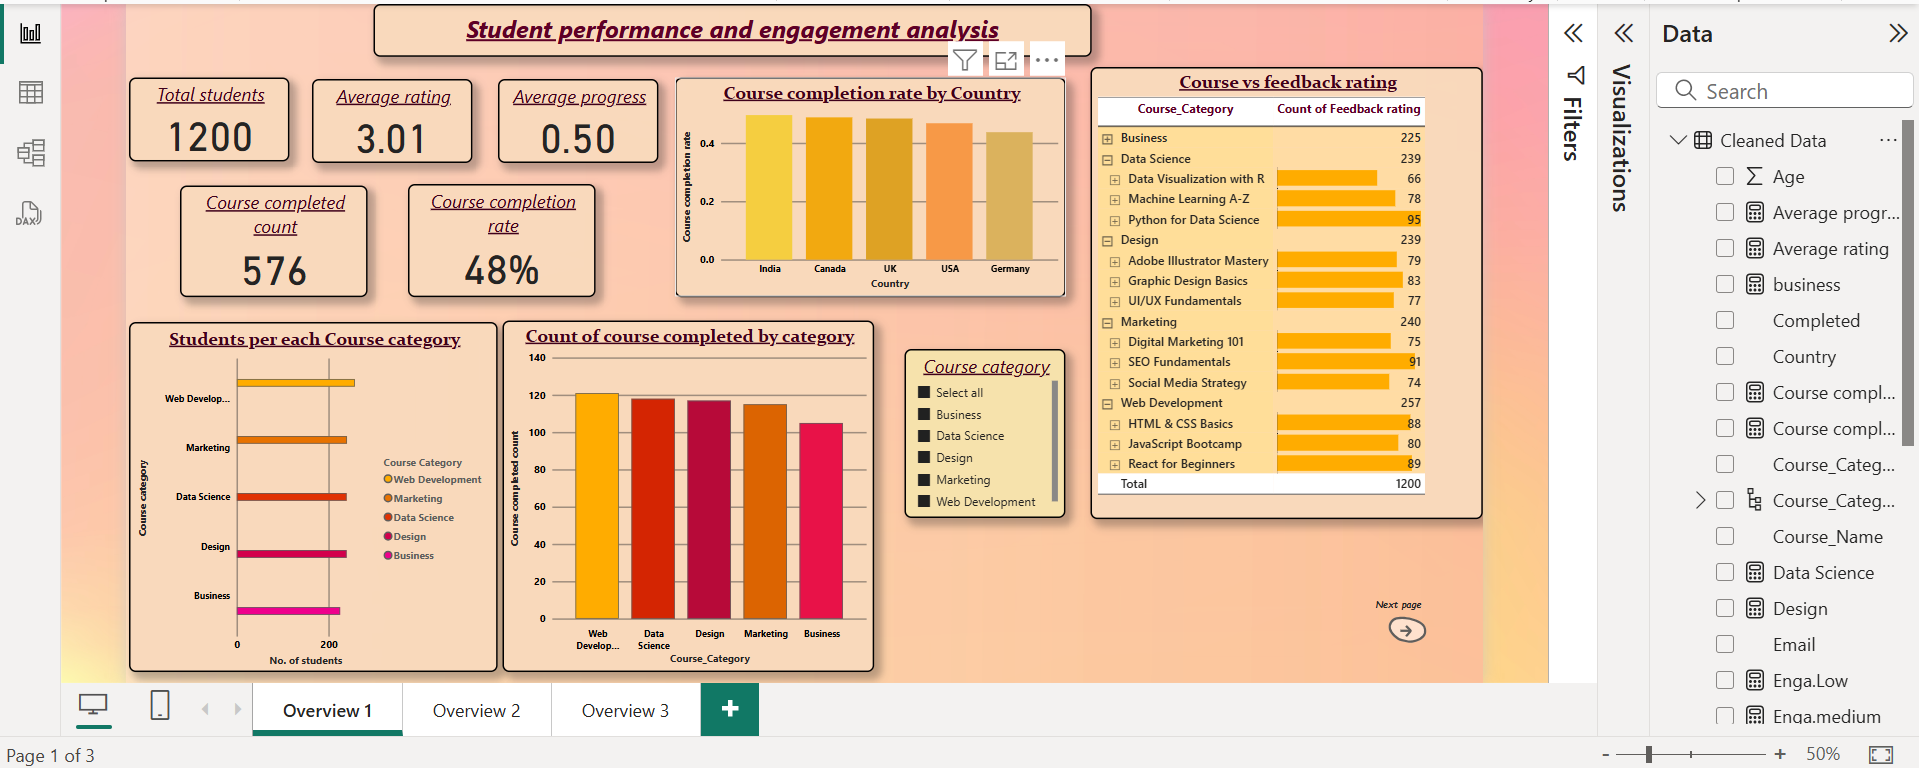

Layout of this report page (visuals, bound fields, positions):
{"tool":"powerbi","page":{"name":"Overview 1","canvas":[1800,900],"ordinal":0},"visuals":[{"type":"card","title":"Total students","fields":{"Values":["Cleaned Data.Total students"]},"box":[4,97.2,212.5,111.3],"z":0},{"type":"card","title":"Average progress","fields":{"Values":["Cleaned Data.Average progress"]},"box":[493.9,99.2,212.5,111.3],"z":1000},{"type":"card","title":"Average rating","fields":{"Values":["Cleaned Data.Average rating"]},"box":[246.9,99.2,212.5,111.3],"z":2000},{"type":"card","title":"Course completed count","fields":{"Values":["Cleaned Data.Course ompletion rate"]},"box":[70.8,240.9,249,147.8],"z":3000},{"type":"card","title":"Course completion rate","fields":{"Values":["Cleaned Data.Course completion rate"]},"box":[374.4,238.8,249,149.8],"z":4000},{"type":"clusteredBarChart","title":"Students per each Course category ","fields":{"Category":["Cleaned Data.Course_Category"],"Y":["CountNonNull(Cleaned Data.Student_ID)"],"Series":["Cleaned Data.Course_Category"]},"box":[4.4,421.9,488.5,464.1],"z":5000},{"type":"slicer","title":"Course category","fields":{"Values":["Cleaned Data.Course_Category"]},"box":[1032.5,457.4,213.2,224.3],"z":6000},{"type":"actionButton","title":"Next page","box":[1656.2,787.4,87.5,61.6],"z":7000},{"type":"textbox","box":[327.9,0,951.8,70.3],"z":8000},{"type":"clusteredColumnChart","title":"Count of course completed by category","fields":{"Category":["Cleaned Data.Course_Category"],"Y":["Cleaned Data.Course completed count"]},"box":[499.6,419.7,492.9,466.3],"z":9000},{"type":"clusteredColumnChart","fields":{"Category":["Cleaned Data.Country"],"Y":["Cleaned Data.Course completion rate"]},"box":[728.7,97.2,518.2,291.5],"z":11000},{"type":"pivotTable","title":"Course vs feedback rating","fields":{"Values":["CountNonNull(Cleaned Data.Feedback rating)"],"Rows":["Cleaned Data.Course_Category Hierarchy.Course_Category","Cleaned Data.Course_Category Hierarchy.Course_Name","Cleaned Data.Course_Category Hierarchy.Country","Cleaned Data.Course_Category Hierarchy.Gender"]},"box":[1279.2,83,520.2,599.1],"z":11001}]}

Visuals, with their boxes on the page's 1800x900 design canvas (x1, y1, x2, y2). These are canvas units, not pixel positions in the 1919x768 screenshot, which may show the page scaled, cropped or inside an application window:
"Total students" card: select_region(4, 97, 216, 208)
"Average progress" card: select_region(494, 99, 706, 210)
"Average rating" card: select_region(247, 99, 459, 210)
"Course completed count" card: select_region(71, 241, 320, 389)
"Course completion rate" card: select_region(374, 239, 623, 389)
"Students per each Course category " clusteredBarChart: select_region(4, 422, 493, 886)
"Course category" slicer: select_region(1032, 457, 1246, 682)
"Next page" actionButton: select_region(1656, 787, 1744, 849)
textbox: select_region(328, 0, 1280, 70)
"Count of course completed by category" clusteredColumnChart: select_region(500, 420, 992, 886)
clusteredColumnChart - Cleaned Data.Country x Cleaned Data.Course completion rate: select_region(729, 97, 1247, 389)
"Course vs feedback rating" pivotTable: select_region(1279, 83, 1799, 682)
